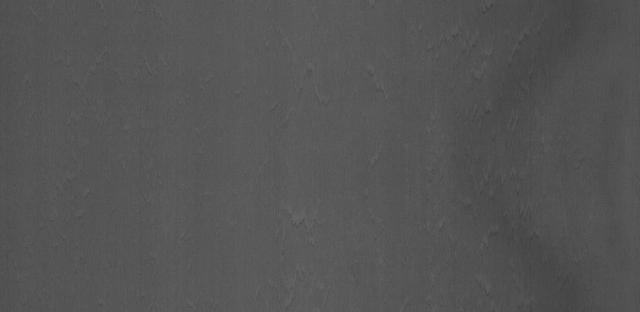silk_spot: (419, 49, 511, 154), (281, 59, 399, 108)
